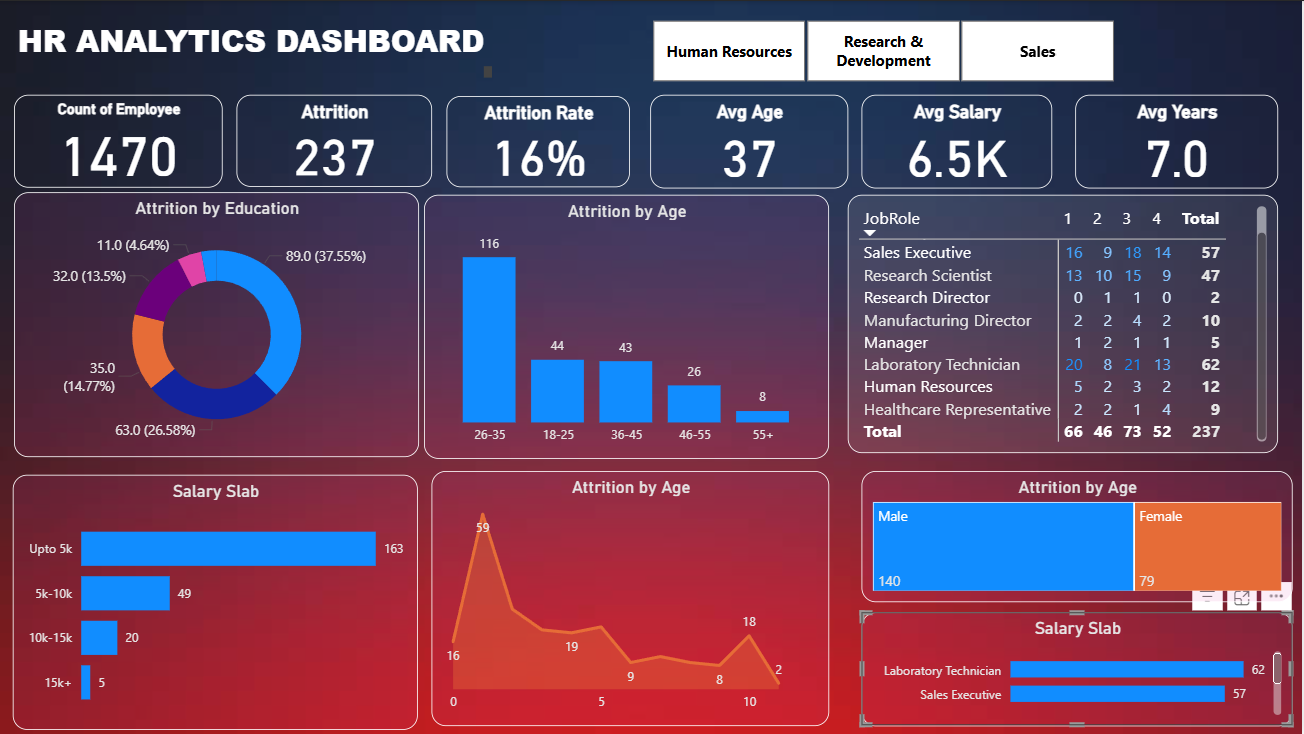

Layout of this report page (visuals, bound fields, positions):
{"tool":"powerbi","page":{"name":"Page 1","canvas":[1280,720],"ordinal":0},"visuals":[{"type":"card","title":"Count of Employee","fields":{"Values":["CountNonNull(HR_Analytics.EmpID)"]},"box":[14.5,92.4,204.8,91.3],"z":0},{"type":"card","title":"Attrition Rate","fields":{"Values":["HR_Analytics.AttritionRate"]},"box":[439.5,93,180.2,89.5],"z":1000},{"type":"card","title":"Avg Age","fields":{"Values":["Avg(HR_Analytics.Age)"]},"box":[639.5,91.9,194.2,91.9],"z":2000},{"type":"card","title":"Attrition","fields":{"Values":["Sum(HR_Analytics.AttritionCount)"]},"box":[232.6,91.9,191.9,90.7],"z":3000},{"type":"card","title":"Avg Salary","fields":{"Values":["Avg(HR_Analytics.MonthlyIncome)"]},"box":[846.5,91.9,187.2,91.9],"z":4000},{"type":"card","title":"Avg Years","fields":{"Values":["Avg(HR_Analytics.YearsAtCompany)"]},"box":[1057,91.9,198.8,91.9],"z":5000},{"type":"donutChart","title":"Attrition by Education","fields":{"Category":["HR_Analytics.EducationField"],"Y":["Sum(HR_Analytics.AttritionCount)"]},"box":[14.7,187.7,397.5,260.1],"z":6000},{"type":"clusteredColumnChart","title":"Attrition by Age","fields":{"Category":["HR_Analytics.AgeGroup"],"Y":["Sum(HR_Analytics.AttritionCount)"]},"box":[417.4,190.7,397.7,259.3],"z":7000},{"type":"pivotTable","fields":{"Rows":["HR_Analytics.JobRole"],"Columns":["HR_Analytics.JobSatisfaction"],"Values":["Sum(HR_Analytics.AttritionCount)"]},"box":[833.7,190.7,422.1,253.5],"z":8000},{"type":"barChart","title":"Salary Slab","fields":{"Category":["HR_Analytics.SalarySlab"],"Y":["Sum(HR_Analytics.AttritionCount)"]},"box":[13.5,465,397.5,250.3],"z":9000},{"type":"barChart","title":"Salary Slab","fields":{"Category":["HR_Analytics.JobRole"],"Y":["Sum(HR_Analytics.AttritionCount)"]},"box":[846.5,600,423.3,111.6],"z":10000},{"type":"areaChart","title":"Attrition by Age","fields":{"Category":["HR_Analytics.YearsAtCompany"],"Y":["Sum(HR_Analytics.AttritionCount)"]},"box":[424.4,461.6,390.7,250],"z":11000},{"type":"treemap","title":"Attrition by Age","fields":{"Group":["HR_Analytics.Gender"],"Values":["Sum(HR_Analytics.AttritionCount)"]},"box":[846.5,461.6,423.3,129.1],"z":12000},{"type":"slicer","fields":{"Values":["HR_Analytics.Department"]},"box":[616.3,12.8,502.3,73.3],"z":13000},{"type":"textbox","title":"HR ANALYTICS DASHBOARD","box":[14,18.6,475.6,61.6],"z":14000}]}

Visuals, with their boxes in screenshot pixels (x1, y1, x2, y2), scaled from the page's 1280x720 canvas onto the 1304x734 screenshot:
"Count of Employee" card: {"left": 15, "top": 94, "right": 223, "bottom": 187}
"Attrition Rate" card: {"left": 448, "top": 95, "right": 631, "bottom": 186}
"Avg Age" card: {"left": 651, "top": 94, "right": 849, "bottom": 187}
"Attrition" card: {"left": 237, "top": 94, "right": 432, "bottom": 186}
"Avg Salary" card: {"left": 862, "top": 94, "right": 1053, "bottom": 187}
"Avg Years" card: {"left": 1077, "top": 94, "right": 1279, "bottom": 187}
"Attrition by Education" donutChart: {"left": 15, "top": 191, "right": 420, "bottom": 457}
"Attrition by Age" clusteredColumnChart: {"left": 425, "top": 194, "right": 830, "bottom": 459}
pivotTable - HR_Analytics.JobRole x HR_Analytics.JobSatisfaction: {"left": 849, "top": 194, "right": 1279, "bottom": 453}
"Salary Slab" barChart: {"left": 14, "top": 474, "right": 419, "bottom": 729}
"Salary Slab" barChart: {"left": 862, "top": 612, "right": 1294, "bottom": 725}
"Attrition by Age" areaChart: {"left": 432, "top": 471, "right": 830, "bottom": 725}
"Attrition by Age" treemap: {"left": 862, "top": 471, "right": 1294, "bottom": 602}
slicer - HR_Analytics.Department: {"left": 628, "top": 13, "right": 1140, "bottom": 88}
"HR ANALYTICS DASHBOARD" textbox: {"left": 14, "top": 19, "right": 499, "bottom": 82}
